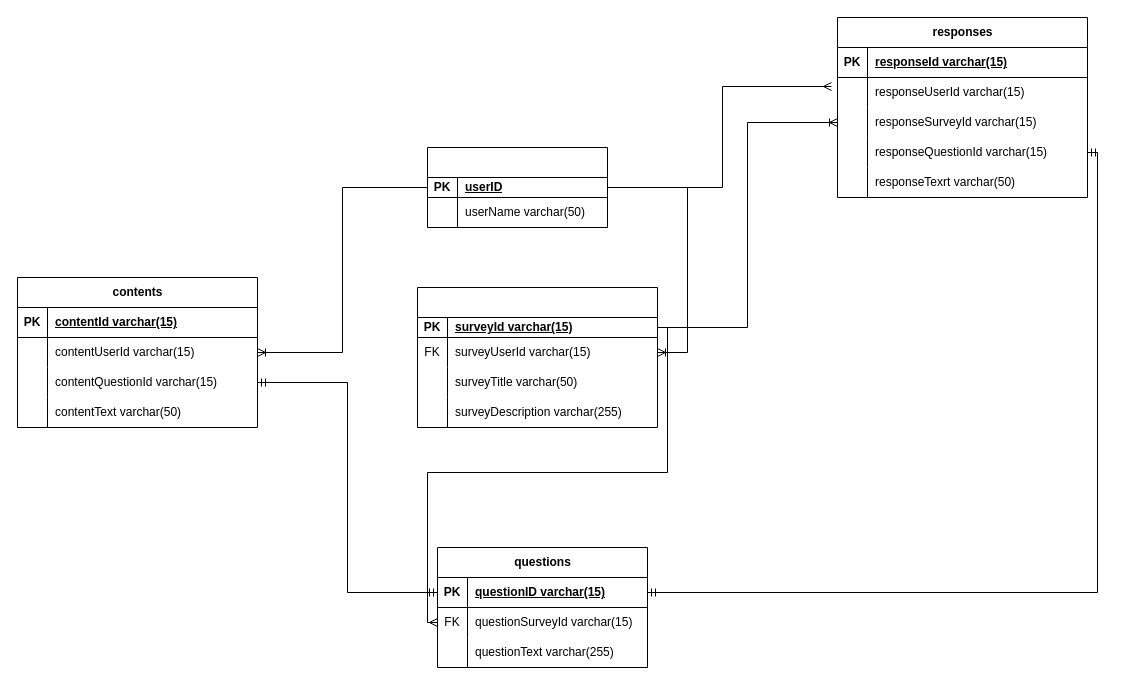
Image size: 1124x685. Some labels were removed from this diagram. Here are the shapes that lost their labels. From the top down, the box of each, then its label:
(426, 146, 608, 228): users
(416, 286, 658, 428): surveys
